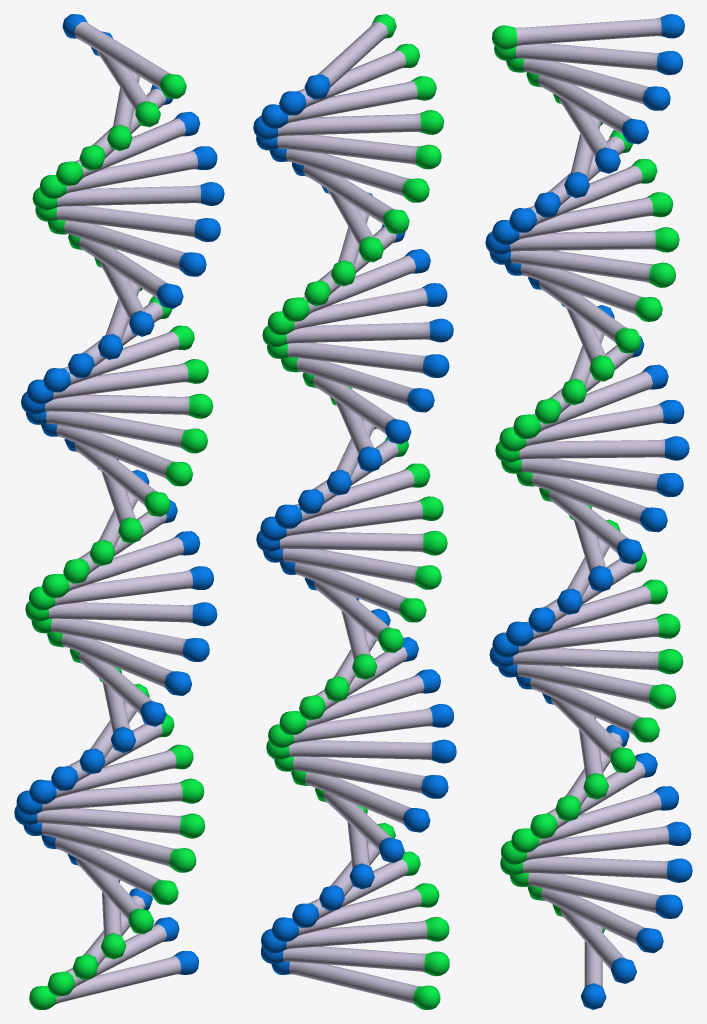
File: dna.gltf
3 renders of one model, left to right at view 1: azimuth 30°, elevation 25°; view 2: azimuth 150°, elevation 25°; view 3: azimuth 270°, elevation 25°, orthographic.
Visible parts, largest first — view 1: Cube; view 2: Cube; view 3: Cube.
Boxes of the visible parts, left/top/right/bottom form: Cube: left=14, top=14, right=224, bottom=1009; Cube: left=253, top=14, right=456, bottom=1009; Cube: left=485, top=14, right=692, bottom=1009.
Bounding box in the file's own units: 21.27 × 107 × 20.92.
